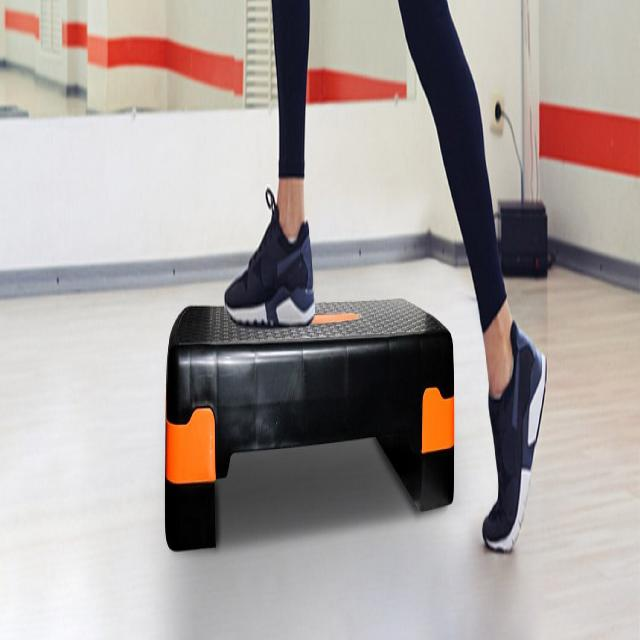Step: (148, 284, 463, 567)
